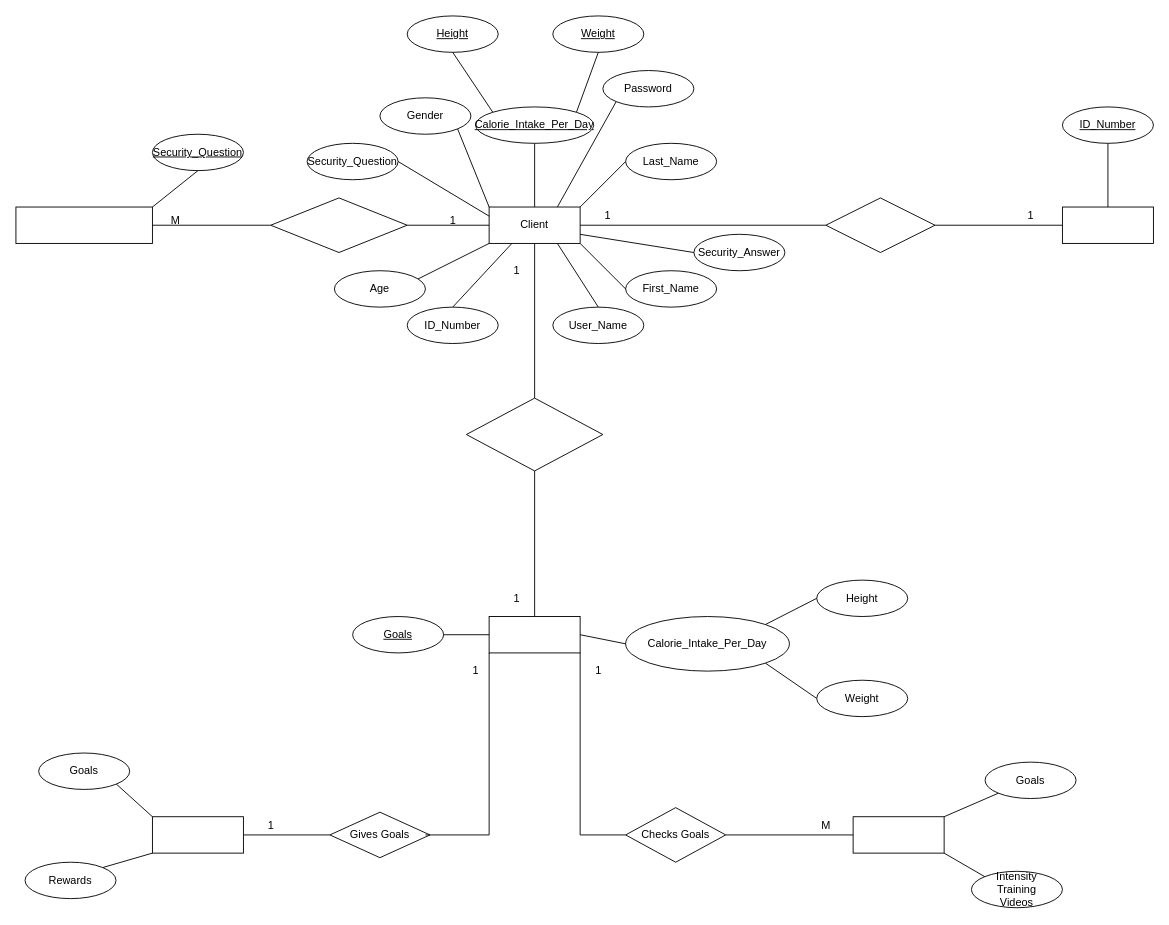
The diagram is 1169 pixels wide and 925 high, and some of its shapes have lost their labels. Here are the shapes that lost their labels. From the top down, the centre of each, then its label:
At pixel 83 224: "Security_Questions".
At pixel 338 225: "User_Gives_Response".
At pixel 880 225: "Gives ID".
At pixel 1107 224: "ID_Generator".
At pixel 534 434: "Uses height, weight, calorie intake".
At pixel 534 634: "Goal_Generator".
At pixel 197 834: "Millestones".
At pixel 898 834: "Intensity".
